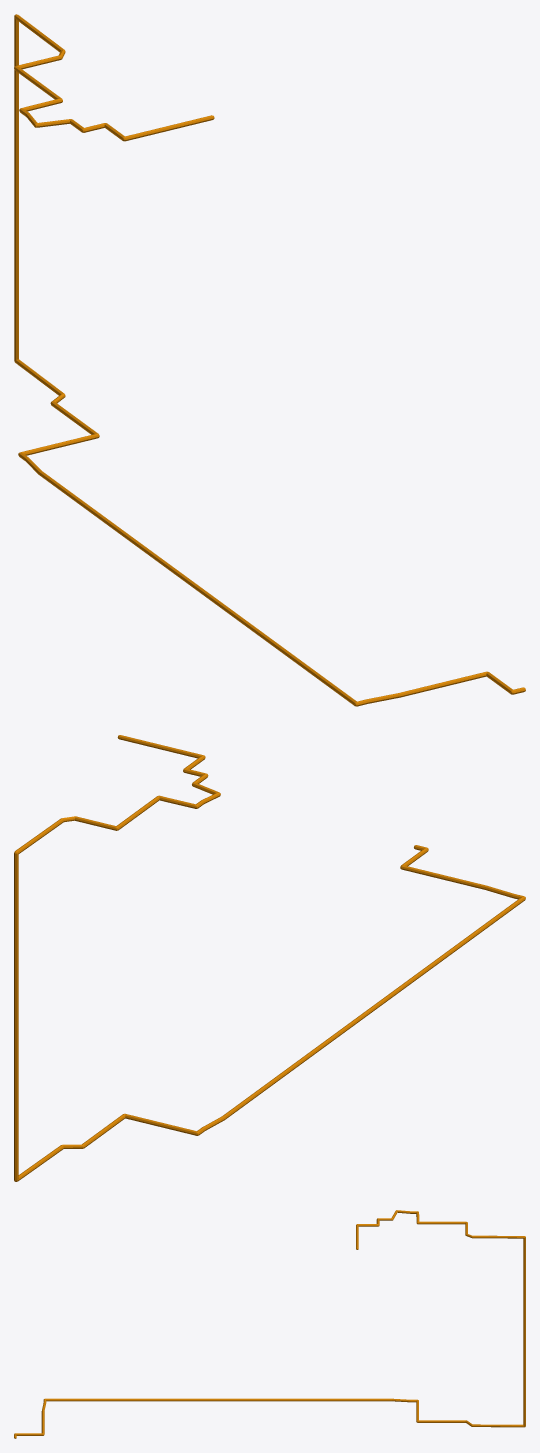
The picture shows the model from 3 angles, top to bottom: view 1: azimuth 30°, elevation 25°; view 2: azimuth 150°, elevation 25°; view 3: azimuth 270°, elevation 25°; orthographic projection. The views are drawn at different scales.
Bounding box in the file's own units: 660 × 1520 × 3687.
